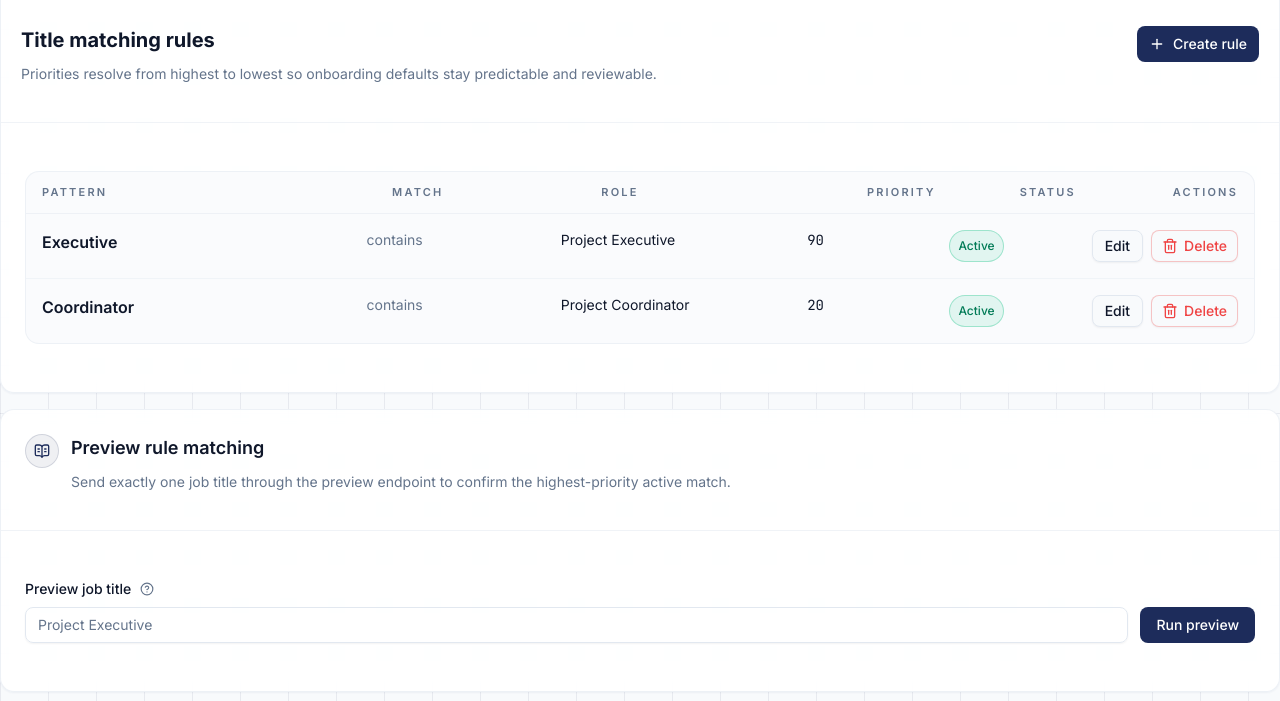
Scenario: TitleRulesSection › sends the preview payload as jobTitle and renders matched and unmatched states
Step 1. Type "Executive" into the field labelled "Preview job title" → (577, 624), box [25, 606, 1128, 642]
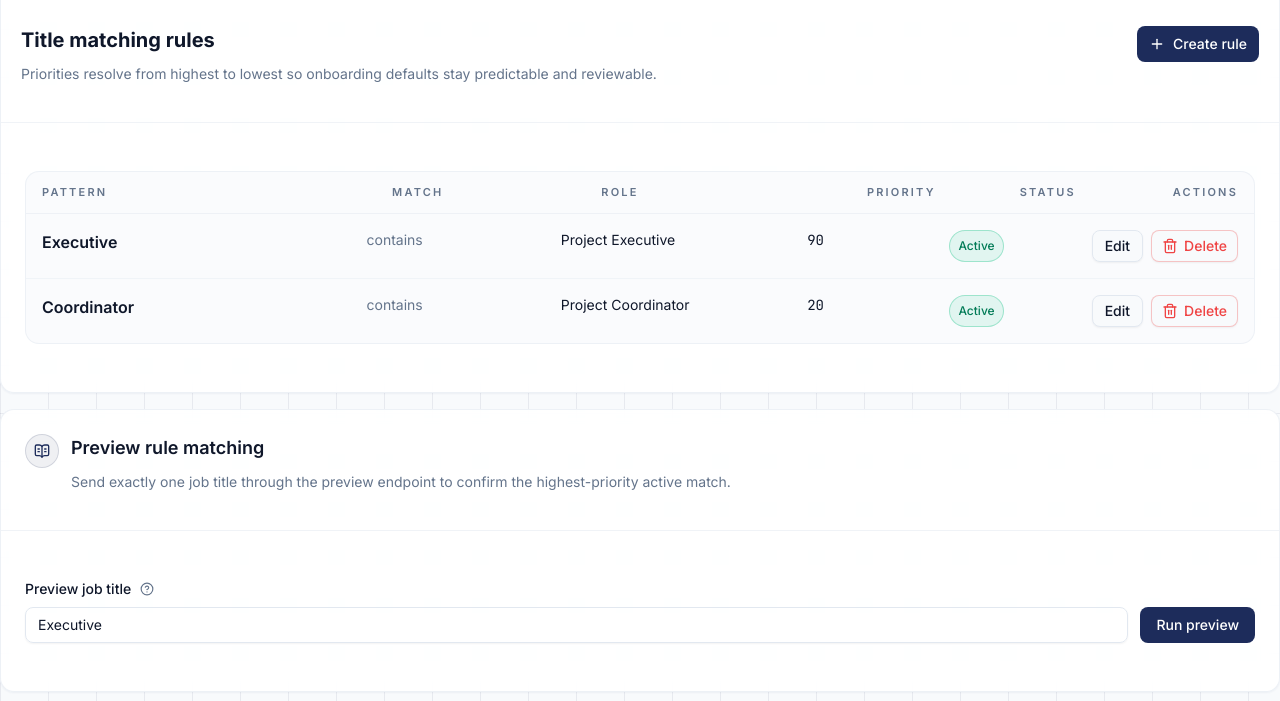
Step 2. Click the button "Run preview" → (1198, 624), box [1140, 606, 1255, 642]
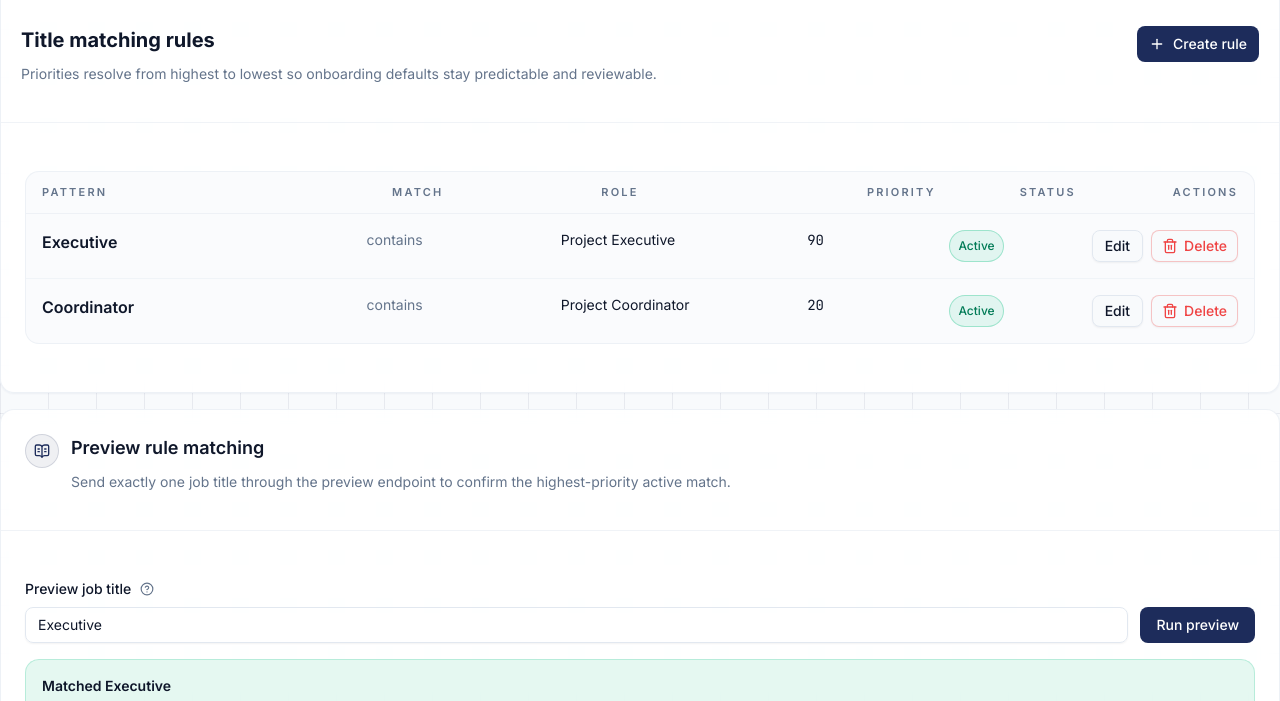
Step 3. Replace the text in the field labelled "Preview job title" with "Intern" → (577, 624), box [25, 606, 1128, 642]
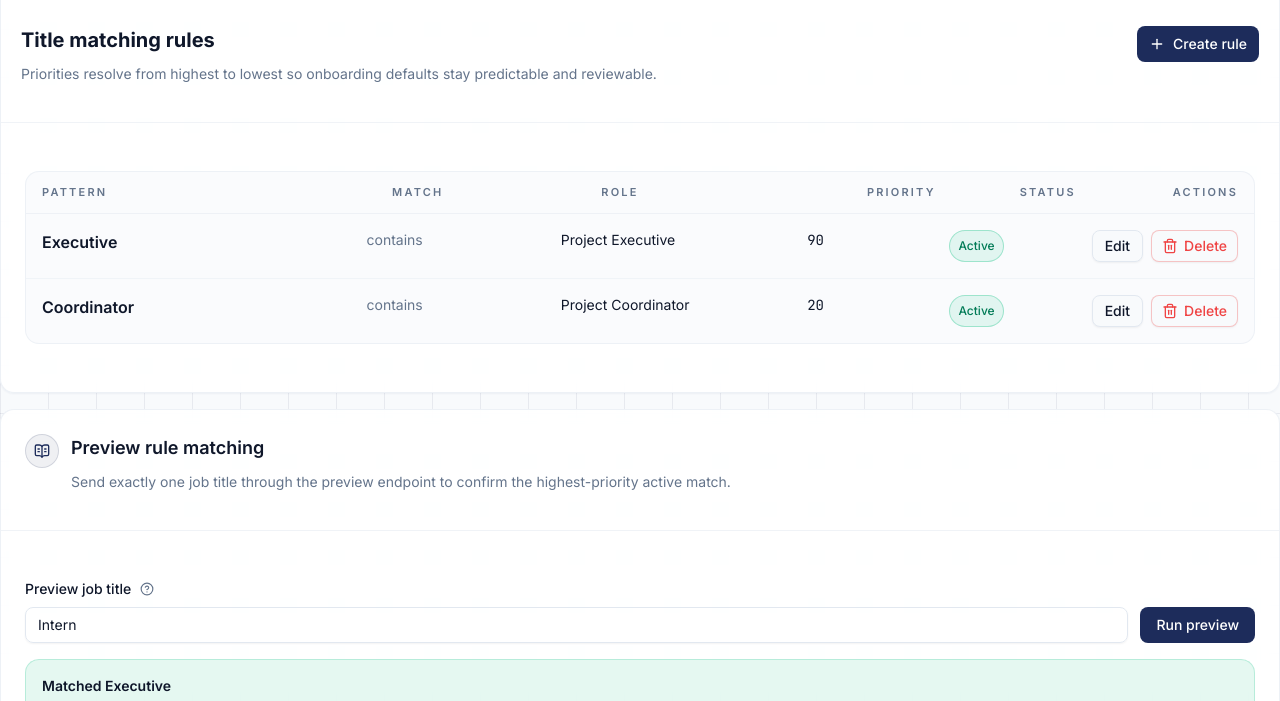
Step 4. Click the button "Run preview" → (1198, 624), box [1140, 606, 1255, 642]
(page scrolled)
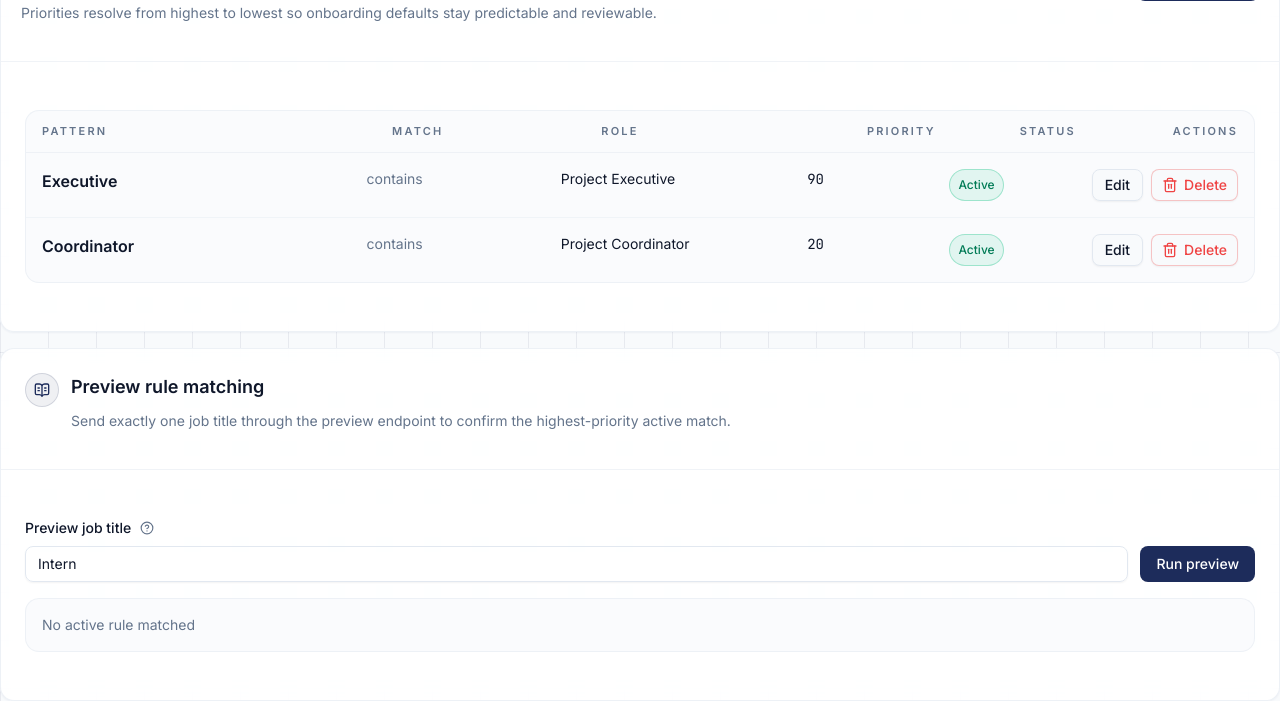
Expected: the text with test id "title-rule-preview-result" reads "No active rule matched", [42, 616, 195, 632]
